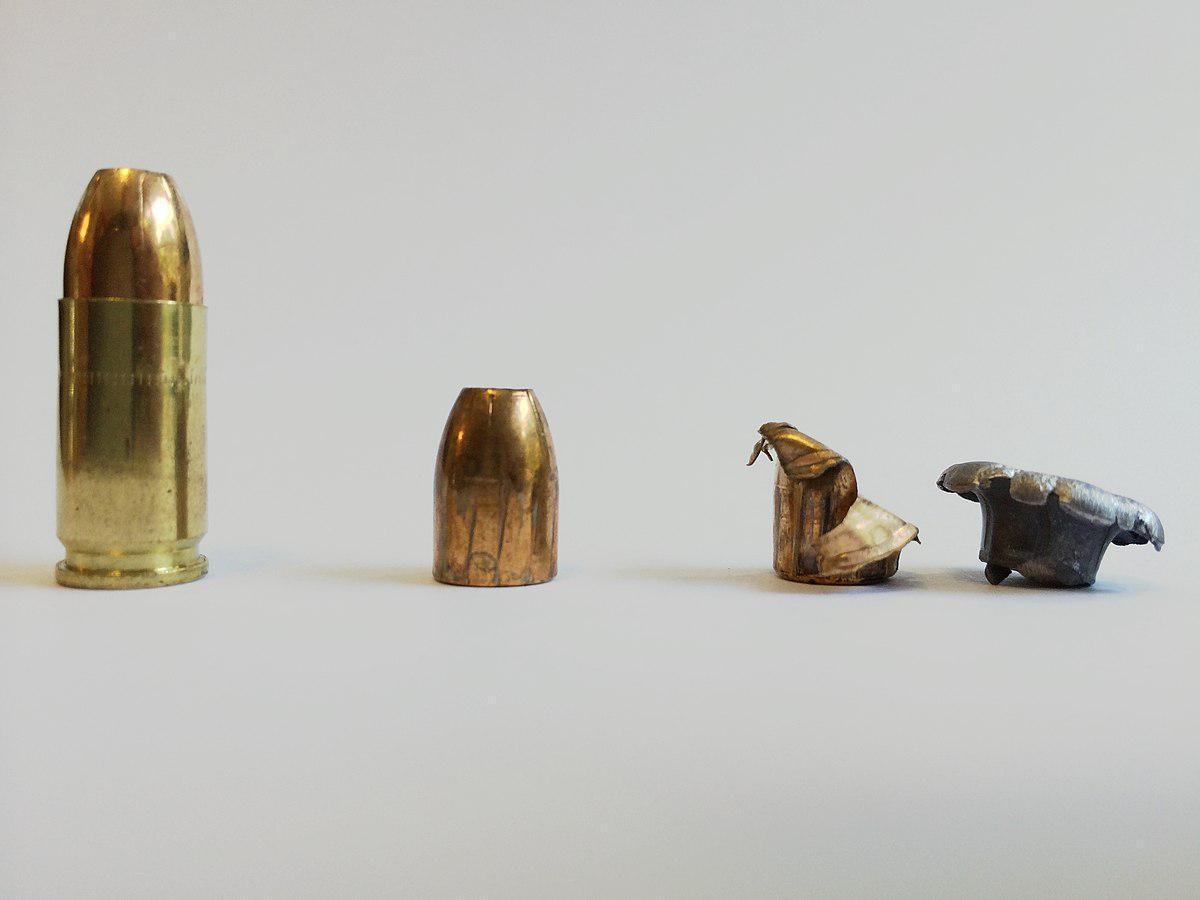Bullet: (47, 155, 238, 601), (422, 371, 569, 603)
